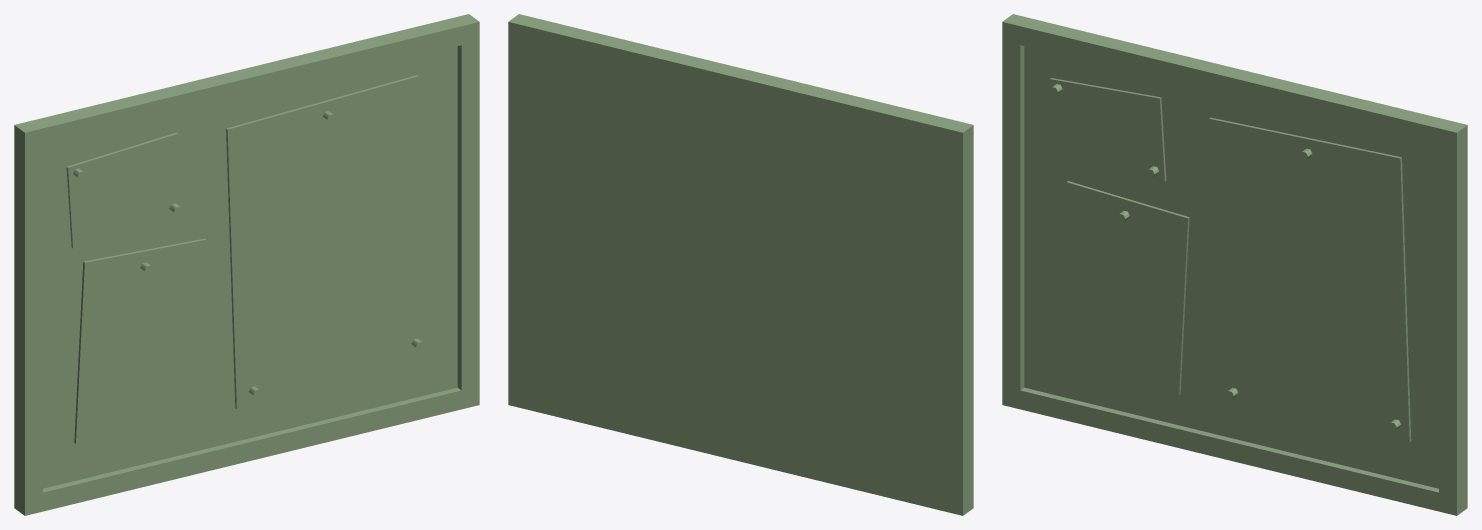
File: Board_Cork.fbx
3 views of the same model, side by side, from view 1: azimuth 30°, elevation 25°; view 2: azimuth 150°, elevation 25°; view 3: azimuth 330°, elevation 25° (orthographic).
Visible parts, largest first — view 1: Board_Cork; view 2: Board_Cork; view 3: Board_Cork.
Boxes of the visible parts, left/top/right/bottom form: Board_Cork: left=14, top=14, right=479, bottom=515; Board_Cork: left=508, top=14, right=973, bottom=515; Board_Cork: left=1002, top=14, right=1467, bottom=515.
Size of the model in its own units: 90.28 by 72.69 by 4.49.
